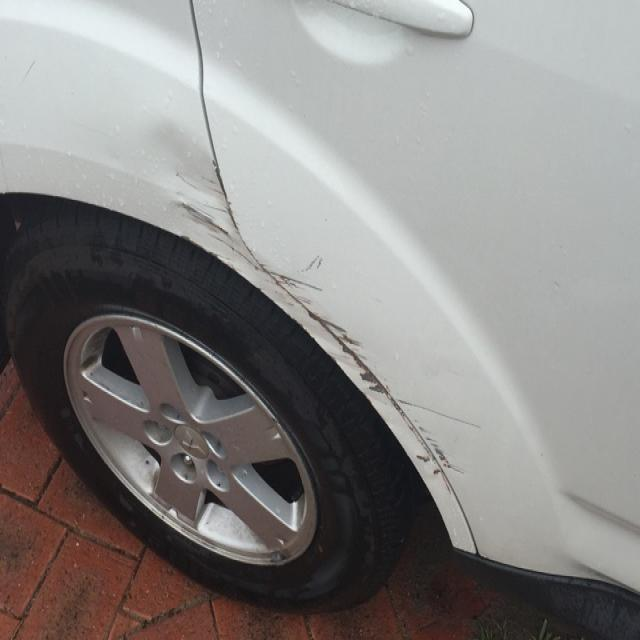dent: (142, 117, 225, 221)
scratch: (174, 159, 482, 497)
